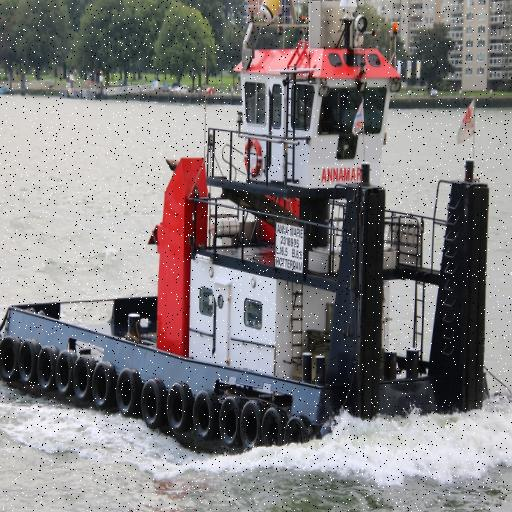tugboat: (1, 1, 500, 485)
